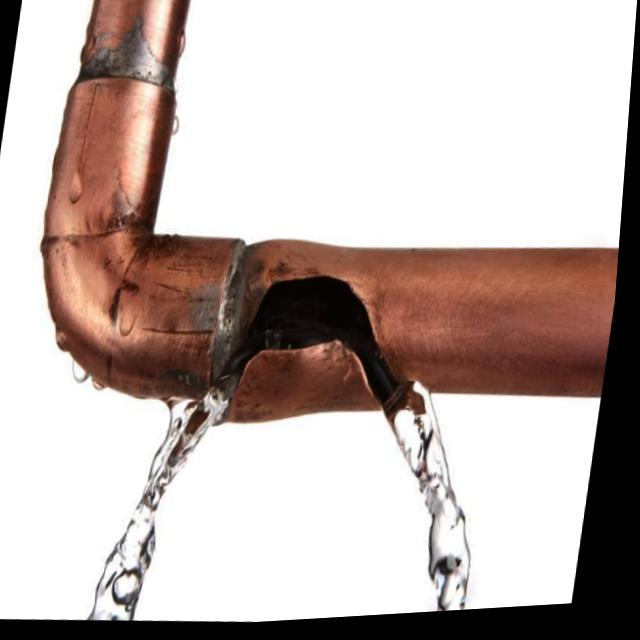leak: (69, 378, 487, 619)
